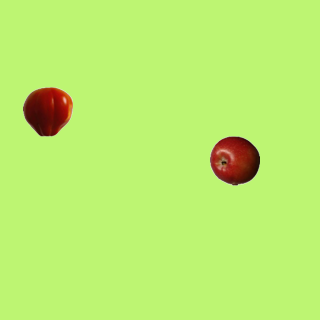Apple Braeburn: (209, 135, 259, 185)
Tomato 1: (22, 86, 72, 136)
